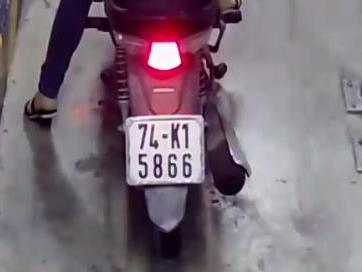num_plate: (123, 113, 207, 187)
